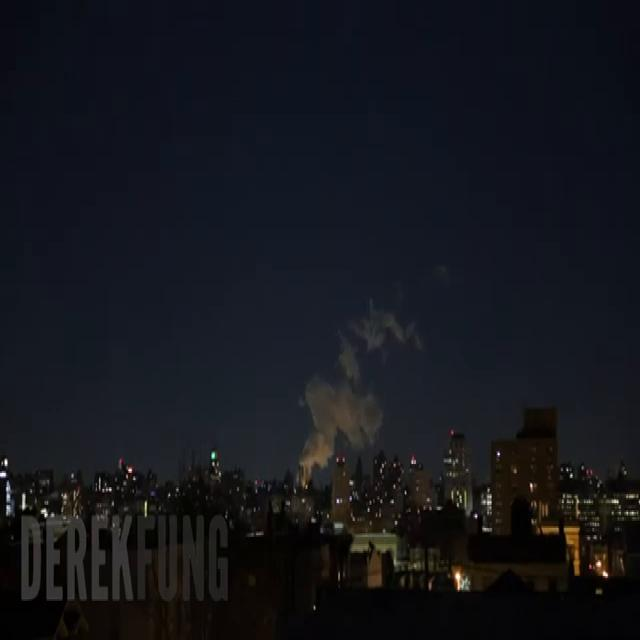smoke: (298, 304, 426, 482)
